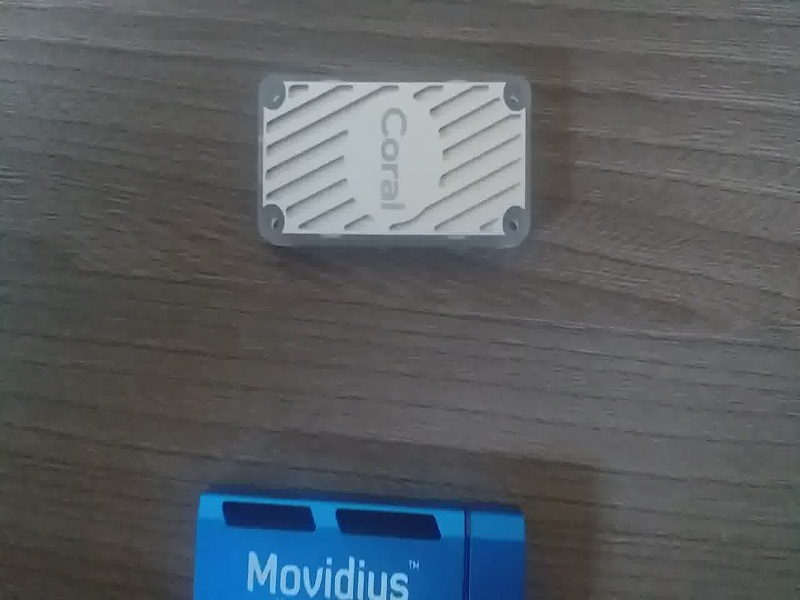coral: (246, 68, 550, 261)
movidius: (180, 479, 550, 600)
